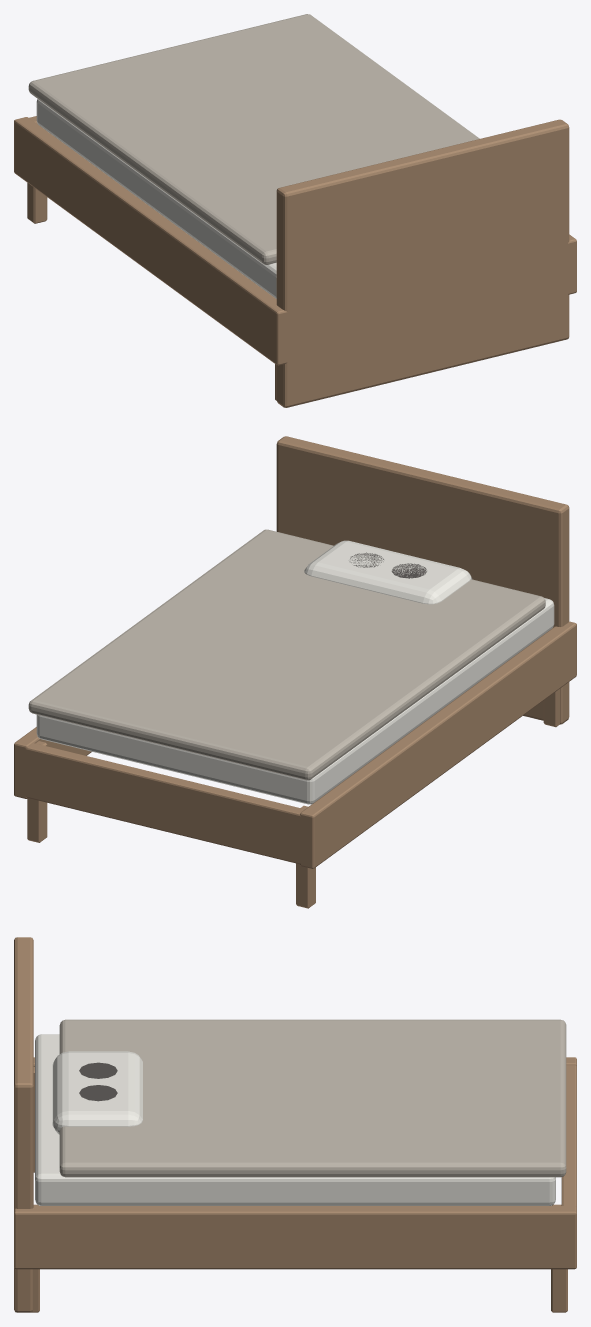
The model's file is kidsbed_01.glb.
3 views of the same model, one above another, from view 1: azimuth 30°, elevation 25°; view 2: azimuth 150°, elevation 25°; view 3: azimuth 270°, elevation 25° (orthographic). The views are drawn at different scales.
Visible parts, largest first — view 1: kidsbed_01; view 2: kidsbed_01; view 3: kidsbed_01.
Part boxes in pixels (x1,y1,x2,y2): kidsbed_01: (14,14,576,407); kidsbed_01: (14,436,576,908); kidsbed_01: (14,937,576,1312).
Size of the model in its own units: 1.05 by 0.72 by 1.6.
